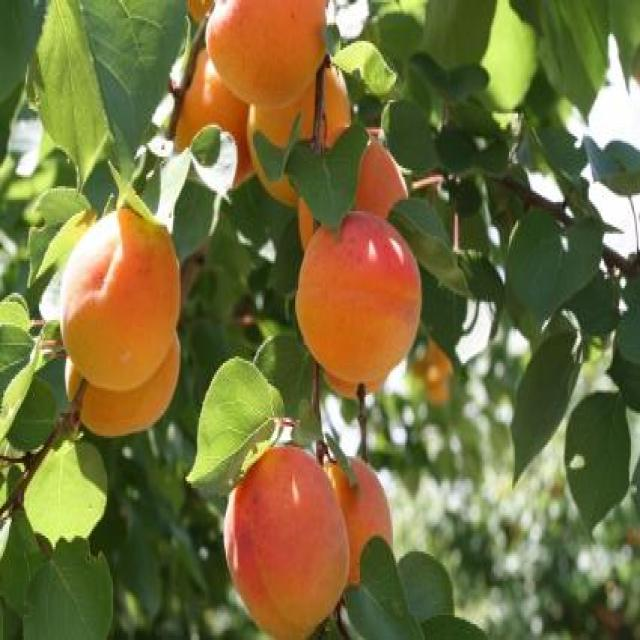peach: (0, 0, 494, 640)
